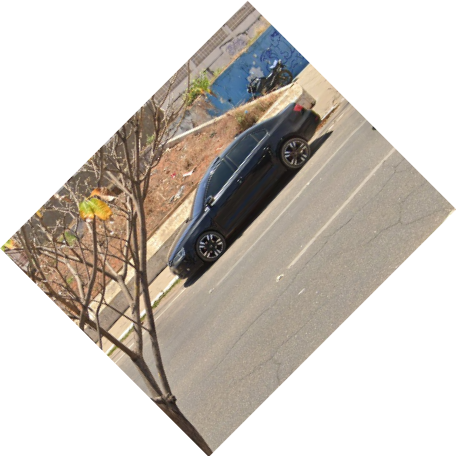car: (165, 99, 330, 287)
